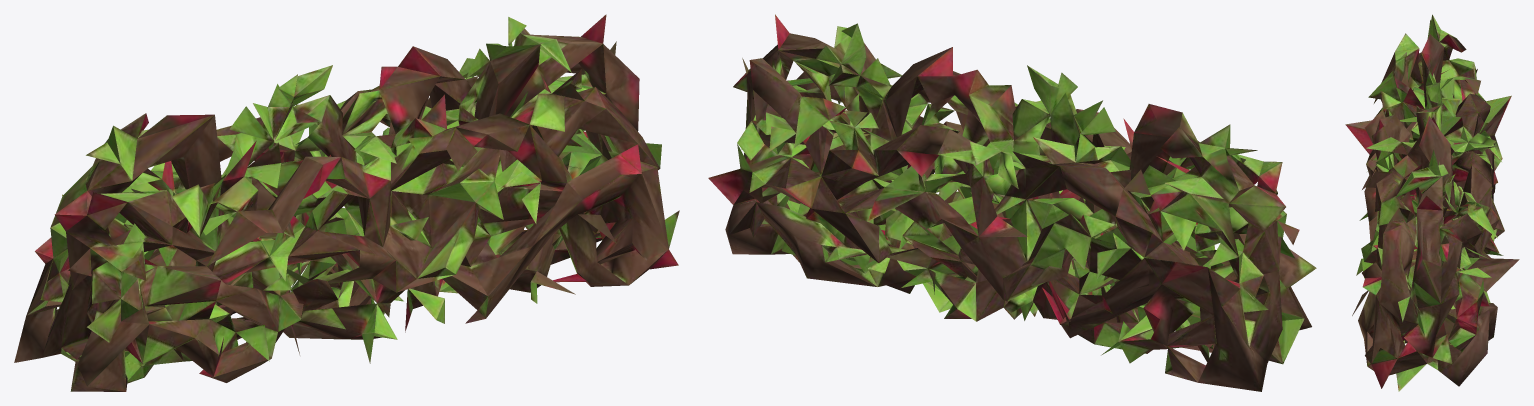
The model's file is hedge-2.glb.
The picture shows the model from 3 angles, left to right: view 1: azimuth 30°, elevation 25°; view 2: azimuth 150°, elevation 25°; view 3: azimuth 270°, elevation 25°; orthographic projection. The views are drawn at different scales.
Bounding box in the file's own units: 2 × 0.8524 × 0.6792.
1 material, 1 textured.
